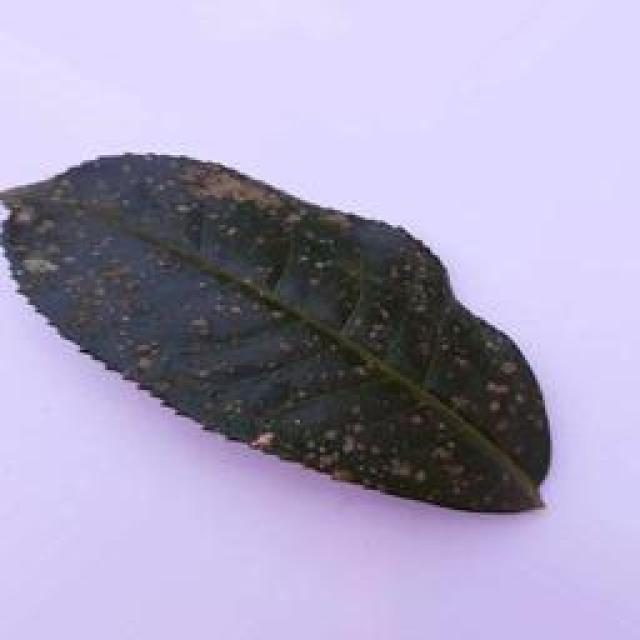Algal Leaf Spot: (4, 147, 554, 515)
